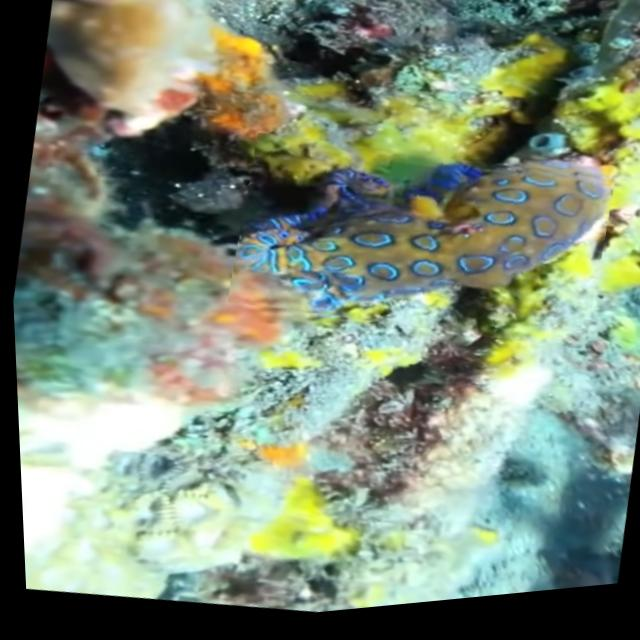blue_ringed_octopus: (217, 114, 618, 383)
